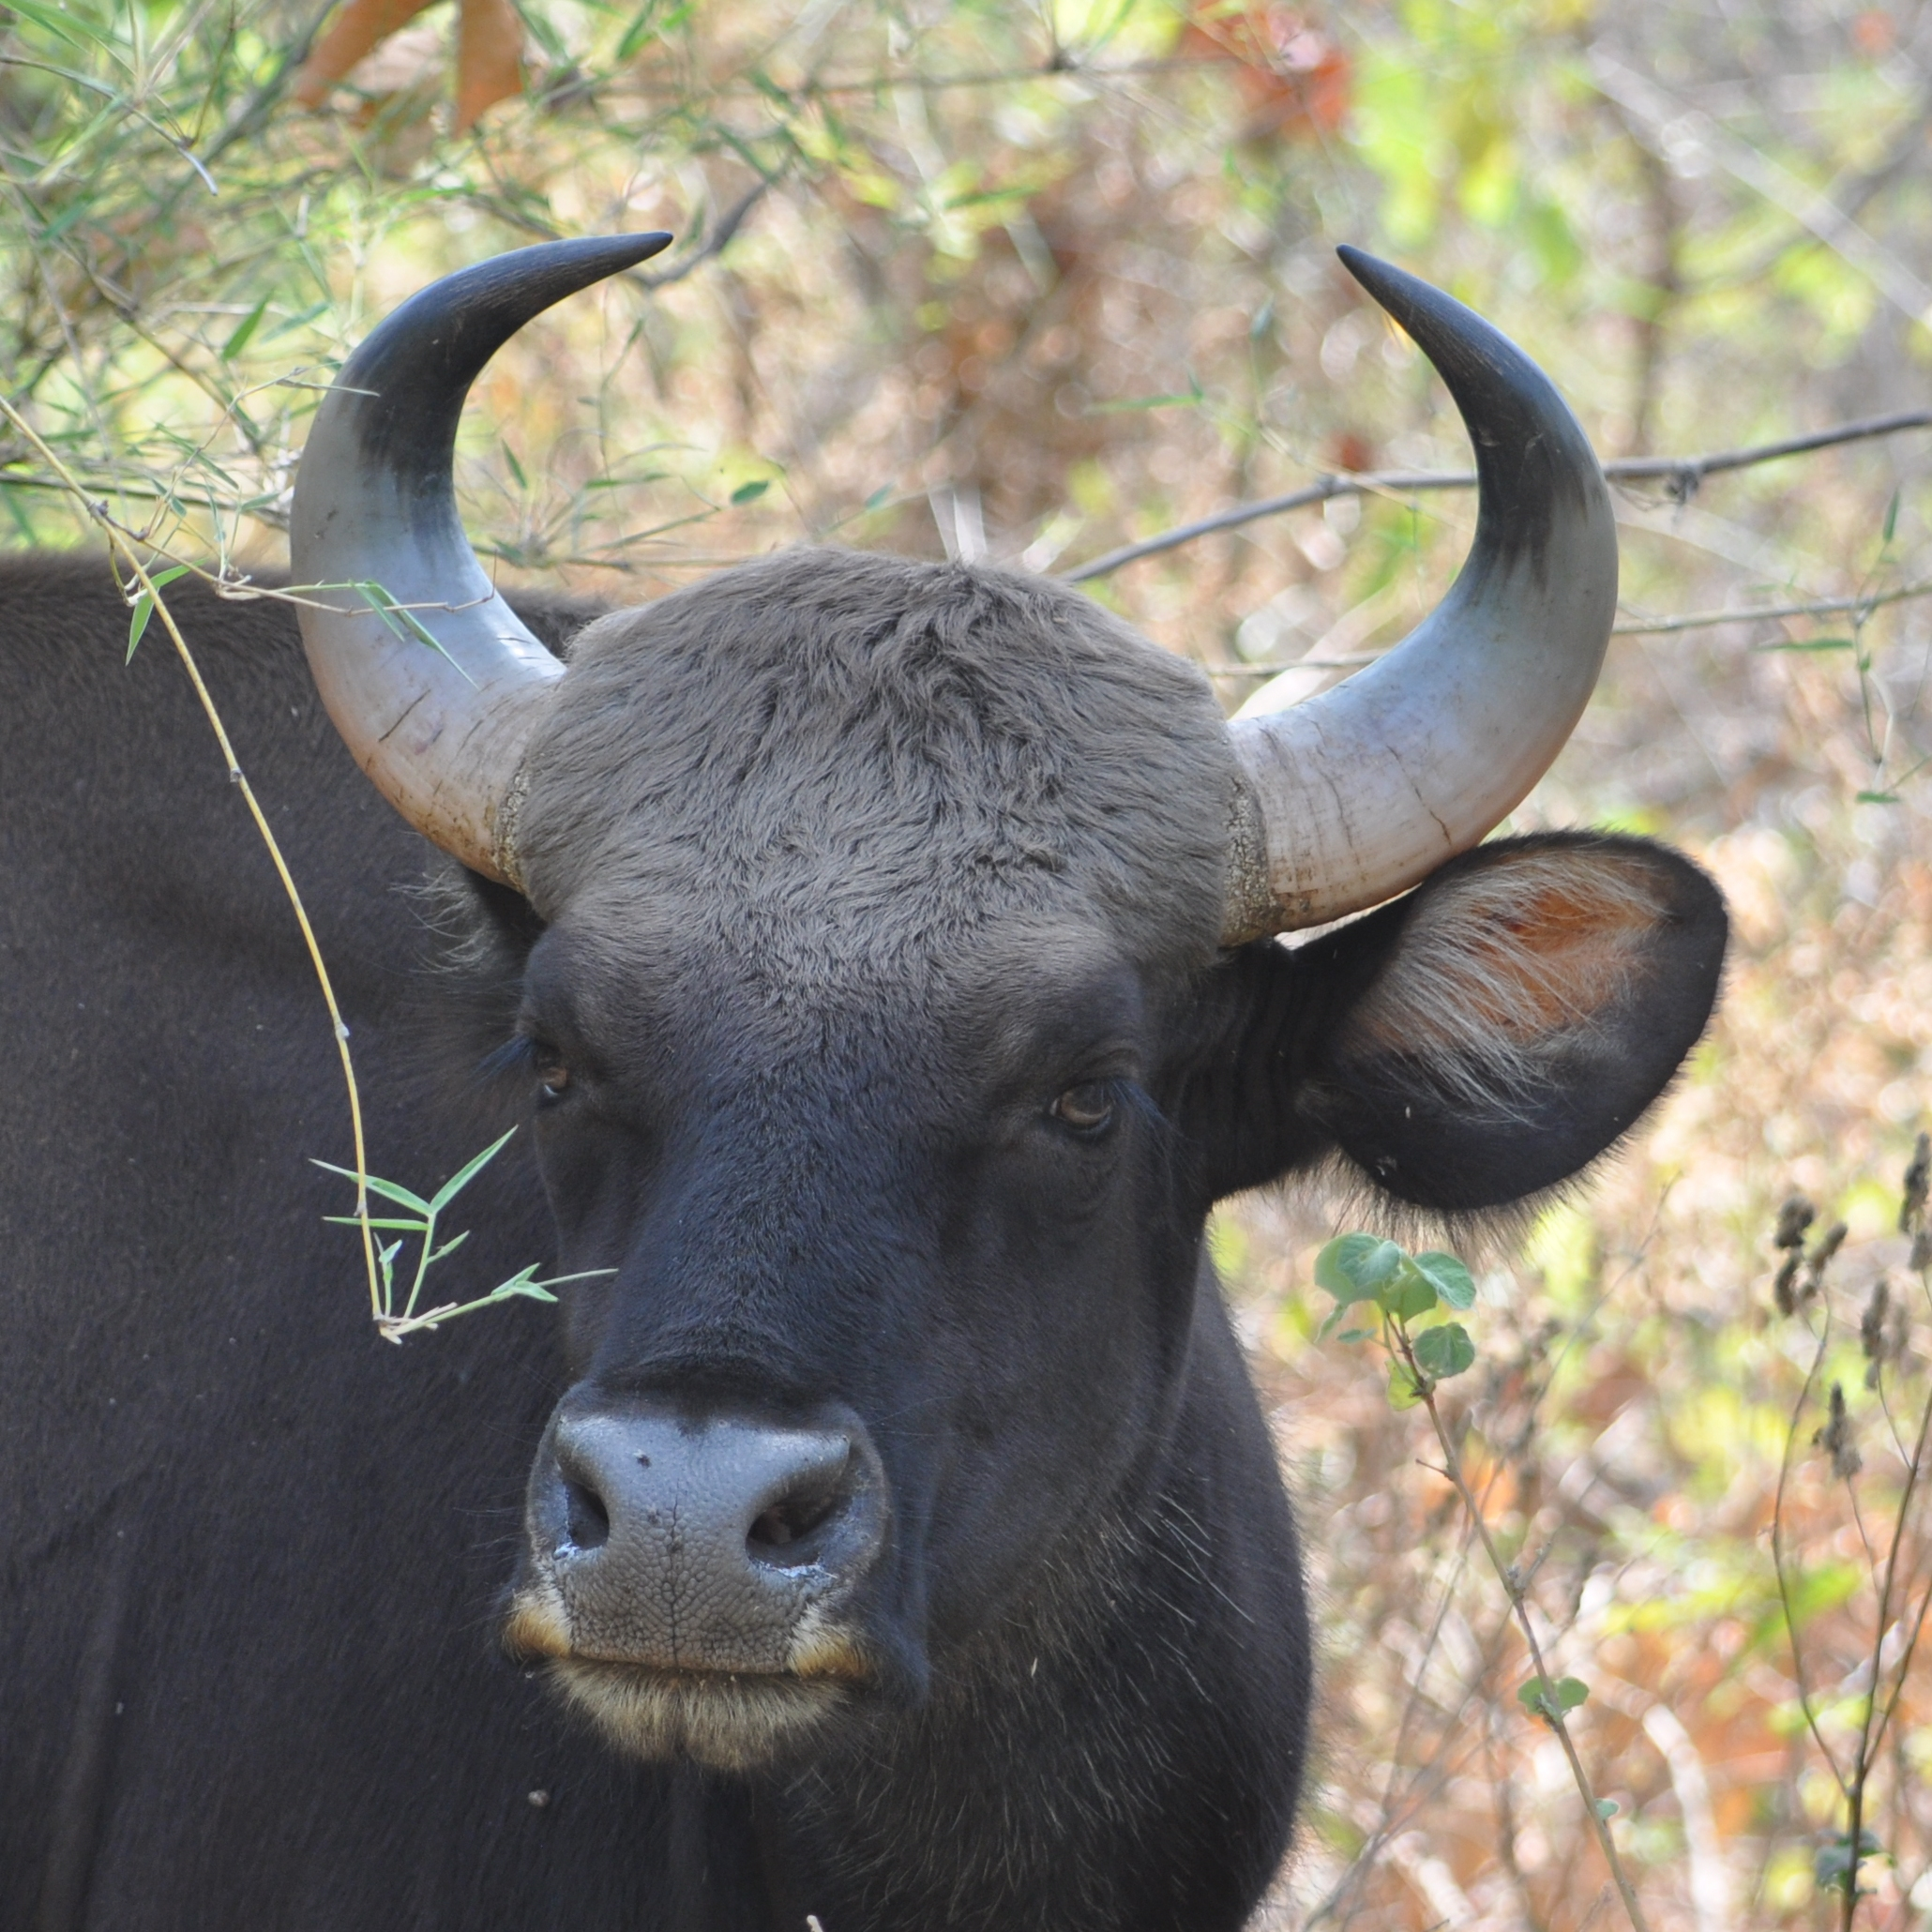bison: (2, 255, 1721, 1930)
